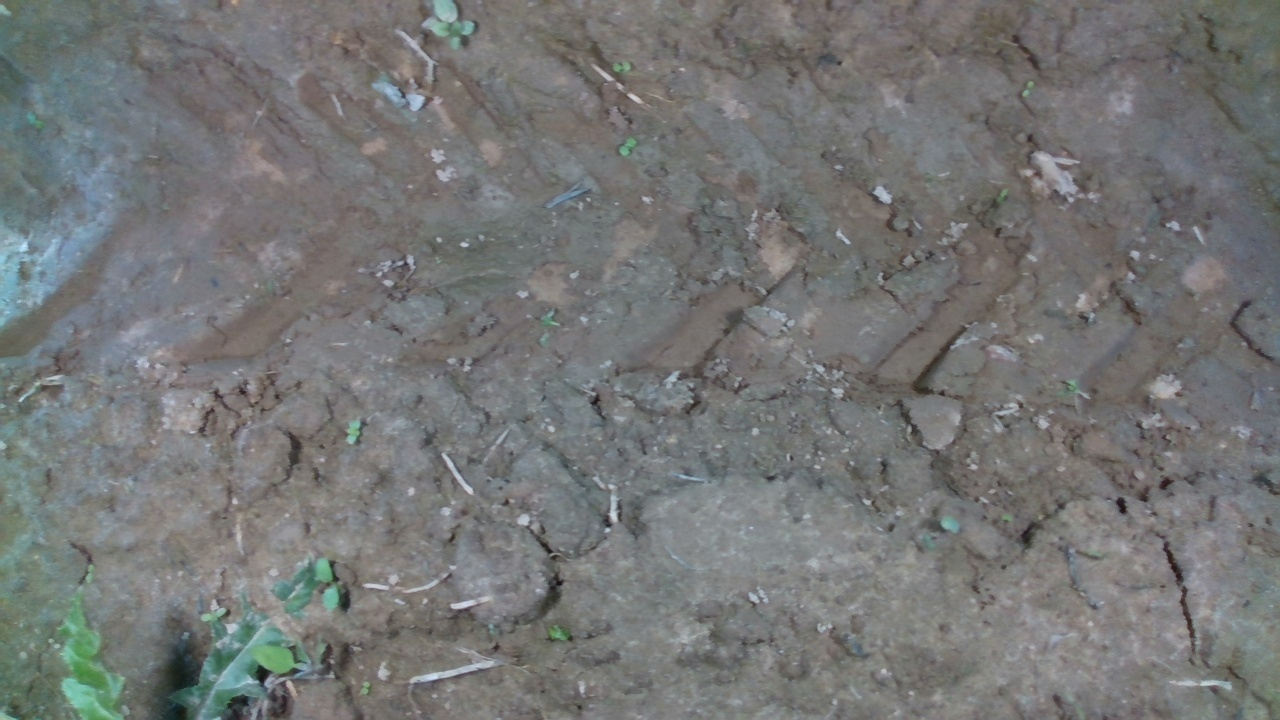weed: (313, 557, 341, 612), (343, 415, 362, 447), (198, 603, 228, 623), (617, 136, 638, 158), (610, 60, 632, 72), (1021, 80, 1035, 98), (84, 562, 94, 586)
